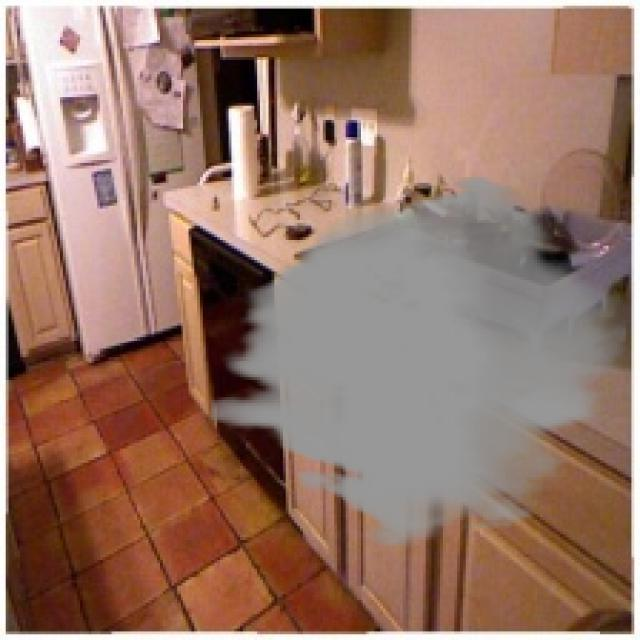Smoke: (211, 174, 626, 549)
